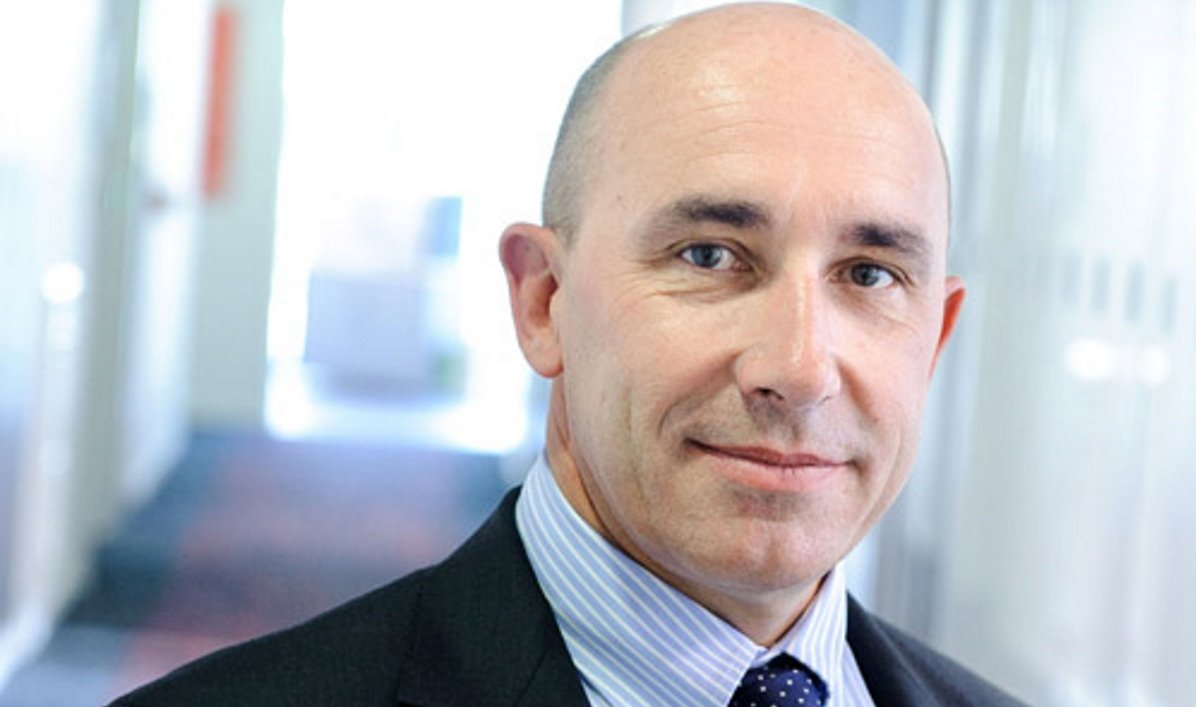without_mask: (605, 163, 913, 490)
